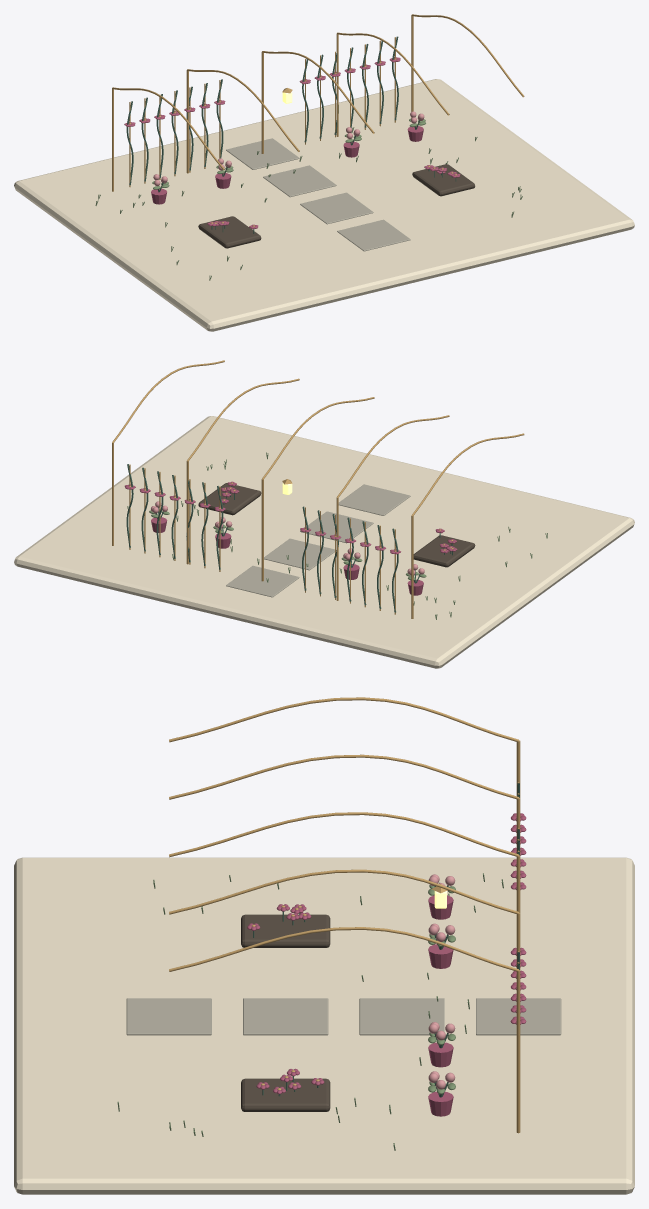
Rendered from beast_greenhouse-CWAGkIrK.glb.
The picture shows the model from 3 angles, top to bottom: view 1: azimuth 30°, elevation 25°; view 2: azimuth 150°, elevation 25°; view 3: azimuth 270°, elevation 25°; orthographic projection. The views are drawn at different scales.
Parts seen in each view (by area): view 1: world_cream.049, world_stone.049, world_brass.049, world_leafdark.049, world_darkwood.049, world_rose.049, FX_blooms_rose.049, FX_blooms_flower.049; view 2: world_cream.049, world_brass.049, world_stone.049, world_leafdark.049, world_darkwood.049, world_rose.049, FX_blooms_rose.049, FX_blooms_flower.049; view 3: world_cream.049, world_stone.049, world_brass.049, world_darkwood.049, world_rose.049, FX_blooms_rose.049, FX_blooms_flower.049.
Boxes of the visible parts, left/top/right/bottom form: world_cream.049: left=14, top=79, right=634, bottom=331; world_stone.049: left=226, top=138, right=410, bottom=251; world_brass.049: left=112, top=14, right=524, bottom=226; world_leafdark.049: left=126, top=36, right=456, bottom=233; world_darkwood.049: left=198, top=164, right=475, bottom=248; world_rose.049: left=124, top=57, right=460, bottom=229; FX_blooms_rose.049: left=151, top=126, right=423, bottom=204; FX_blooms_flower.049: left=153, top=111, right=424, bottom=186; world_cream.049: left=14, top=416, right=634, bottom=668; world_brass.049: left=112, top=360, right=524, bottom=618; world_stone.049: left=226, top=484, right=410, bottom=597; world_leafdark.049: left=126, top=464, right=452, bottom=612; world_darkwood.049: left=198, top=483, right=475, bottom=567; world_rose.049: left=124, top=481, right=457, bottom=554; FX_blooms_rose.049: left=151, top=517, right=423, bottom=595; FX_blooms_flower.049: left=151, top=501, right=424, bottom=575; world_cream.049: left=14, top=857, right=634, bottom=1194; world_stone.049: left=126, top=998, right=561, bottom=1035; world_brass.049: left=169, top=697, right=520, bottom=1133; world_darkwood.049: left=241, top=914, right=330, bottom=1111; world_rose.049: left=247, top=813, right=526, bottom=1094; FX_blooms_rose.049: left=428, top=895, right=453, bottom=1116; FX_blooms_flower.049: left=428, top=874, right=455, bottom=1089.
Size of the model in its own units: 20 by 6.3 by 16.
